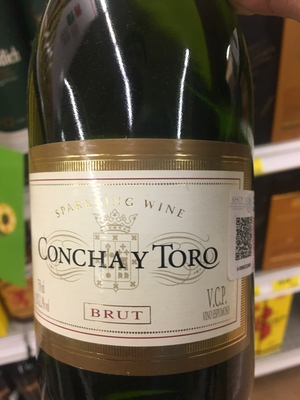brut: (23, 13, 260, 400)
